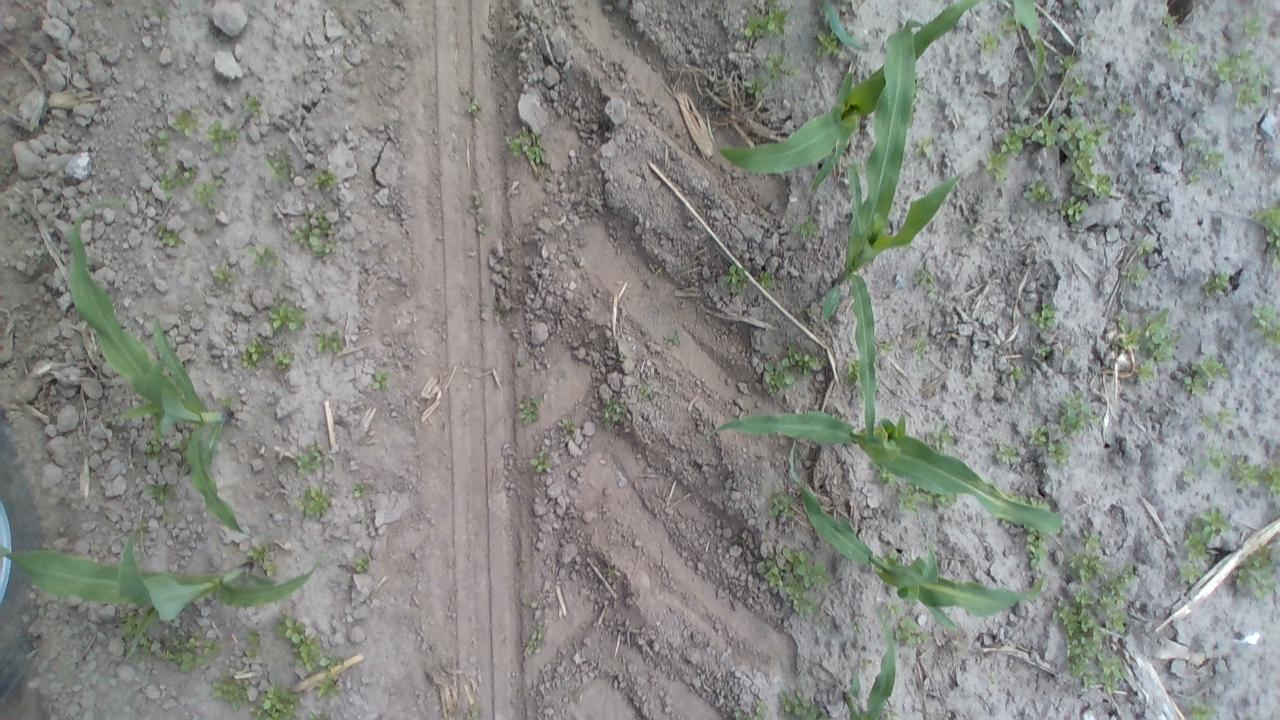Maize: (60, 196, 258, 540), (818, 18, 976, 448), (714, 0, 984, 191), (716, 399, 1064, 539), (786, 450, 1056, 630), (2, 532, 326, 626), (840, 597, 906, 720), (1008, 0, 1055, 126), (819, 0, 871, 53)
Weeds: (1109, 302, 1181, 384), (763, 545, 830, 619), (1056, 586, 1106, 682), (1063, 119, 1114, 203), (1103, 560, 1141, 637), (1184, 507, 1230, 567), (277, 614, 323, 670), (160, 630, 218, 674), (1000, 114, 1060, 153), (1082, 650, 1132, 694), (290, 210, 334, 258), (116, 608, 152, 666), (1180, 354, 1227, 398), (1236, 543, 1274, 597), (1056, 390, 1101, 434), (741, 0, 789, 40), (1228, 457, 1280, 493), (250, 682, 300, 719), (1251, 205, 1280, 267), (466, 182, 497, 239), (777, 688, 830, 720), (1211, 48, 1257, 82), (506, 128, 545, 166), (1251, 302, 1280, 348), (267, 300, 307, 332), (760, 53, 796, 88), (1192, 406, 1242, 431), (1066, 548, 1105, 580), (296, 484, 332, 518), (897, 486, 943, 512), (1164, 32, 1197, 64), (1236, 75, 1266, 109), (316, 660, 344, 696), (212, 678, 248, 706), (294, 443, 326, 474), (206, 121, 238, 152), (766, 485, 792, 522), (172, 106, 202, 138), (782, 344, 814, 374), (158, 164, 190, 194), (730, 698, 772, 720), (764, 362, 794, 392), (741, 72, 771, 102), (247, 543, 274, 575), (1122, 258, 1150, 288), (1204, 269, 1232, 298), (898, 615, 925, 645), (1196, 148, 1224, 176), (1032, 302, 1060, 330), (723, 263, 749, 293), (265, 153, 290, 184), (1027, 530, 1047, 568), (1026, 179, 1054, 206), (792, 212, 818, 241), (252, 242, 278, 271), (314, 329, 344, 354), (242, 338, 266, 369), (956, 216, 983, 243), (556, 412, 582, 440), (600, 397, 625, 426), (517, 396, 541, 426), (882, 596, 909, 622), (987, 150, 1012, 178), (1060, 197, 1088, 222), (816, 30, 842, 56), (1064, 75, 1088, 102), (928, 426, 956, 449), (146, 480, 174, 503), (1000, 6, 1020, 38), (1048, 440, 1072, 466), (348, 478, 371, 505), (1240, 14, 1264, 39), (913, 136, 937, 160), (1016, 493, 1054, 508), (312, 170, 339, 191), (1177, 562, 1204, 583), (195, 181, 216, 208), (524, 628, 544, 656), (1178, 132, 1209, 150), (1188, 699, 1215, 719), (661, 325, 683, 349), (170, 434, 188, 463), (980, 28, 1000, 54), (1204, 450, 1226, 473), (600, 564, 622, 587), (996, 443, 1020, 464), (210, 263, 232, 285), (1134, 234, 1156, 256), (1026, 426, 1049, 447), (1080, 527, 1101, 550), (914, 266, 934, 290), (245, 630, 260, 662), (152, 130, 172, 154), (878, 334, 896, 360), (844, 358, 860, 387), (1162, 9, 1182, 32), (149, 3, 173, 22), (370, 368, 390, 390), (240, 94, 260, 116), (144, 435, 164, 457), (160, 228, 184, 246), (531, 452, 551, 473), (912, 336, 931, 358), (464, 96, 483, 118), (1116, 98, 1136, 118), (464, 700, 484, 720), (636, 383, 656, 403), (874, 466, 896, 484), (274, 350, 294, 369), (1057, 52, 1076, 72), (647, 264, 666, 283), (1182, 167, 1202, 185), (882, 550, 904, 566), (758, 268, 774, 290), (1085, 27, 1104, 44), (355, 554, 371, 574), (1180, 464, 1196, 484), (158, 509, 176, 526), (1034, 340, 1050, 358), (219, 390, 234, 409), (1008, 365, 1027, 380), (851, 616, 865, 636), (520, 597, 540, 611), (306, 709, 331, 720), (857, 653, 873, 669), (924, 285, 941, 300), (134, 520, 149, 534), (914, 72, 923, 95), (544, 170, 556, 186), (1063, 340, 1072, 358), (616, 351, 628, 363), (517, 554, 530, 564)
